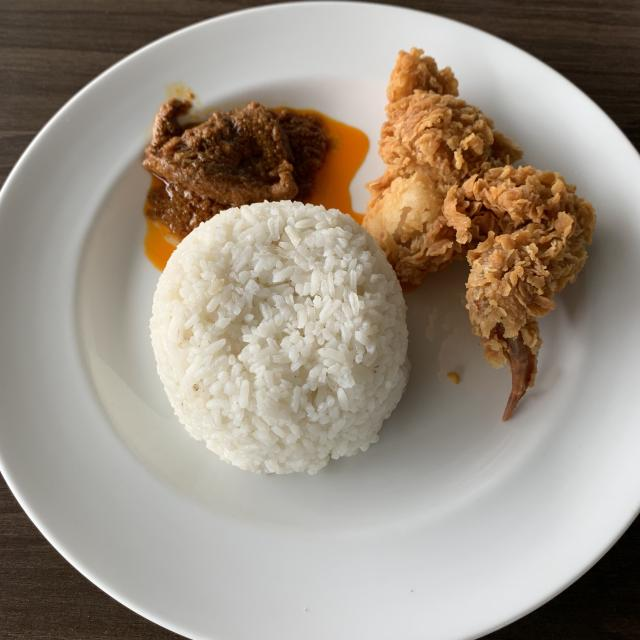Wet Waste: (371, 45, 596, 420), (149, 202, 409, 476), (145, 90, 332, 238)
